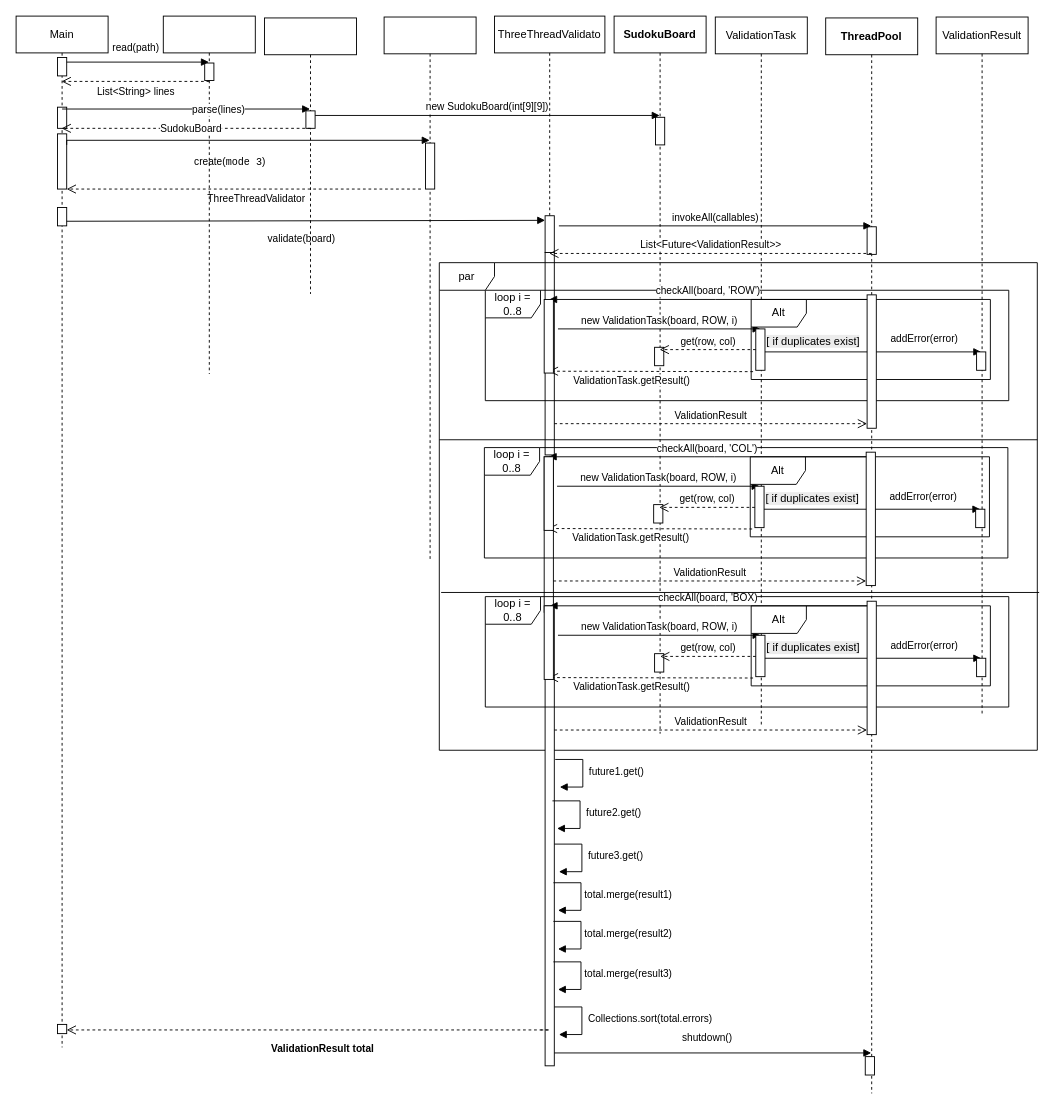
The diagram is 1055 pixels wide and 1110 high, and some of its shapes have lost their labels. The shapes that lost their labels are listed below. From the top down, each one's box as (x1, y1, x2, y2) in pixels, then its label:
(264, 17, 356, 294): SudokuParser
(162, 15, 255, 374): CSVReader
(383, 16, 476, 560): ValidatorFactory
